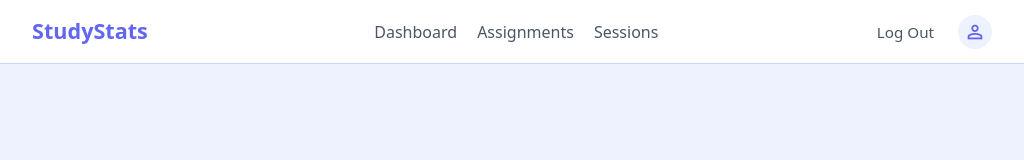
Navbar › logged-in state › renders the profile button labeled "Account" and shows email in dropdown when opened
The image size is (1024, 160).
// Click to open dropdown and verify email is visible
Click the button named "account". click: x=975, y=32
box: 958,14 -> 992,48
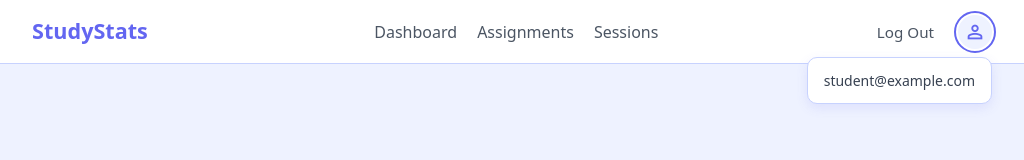
expect the text "student@example.com" is shown: met, box 824,70 -> 975,90
